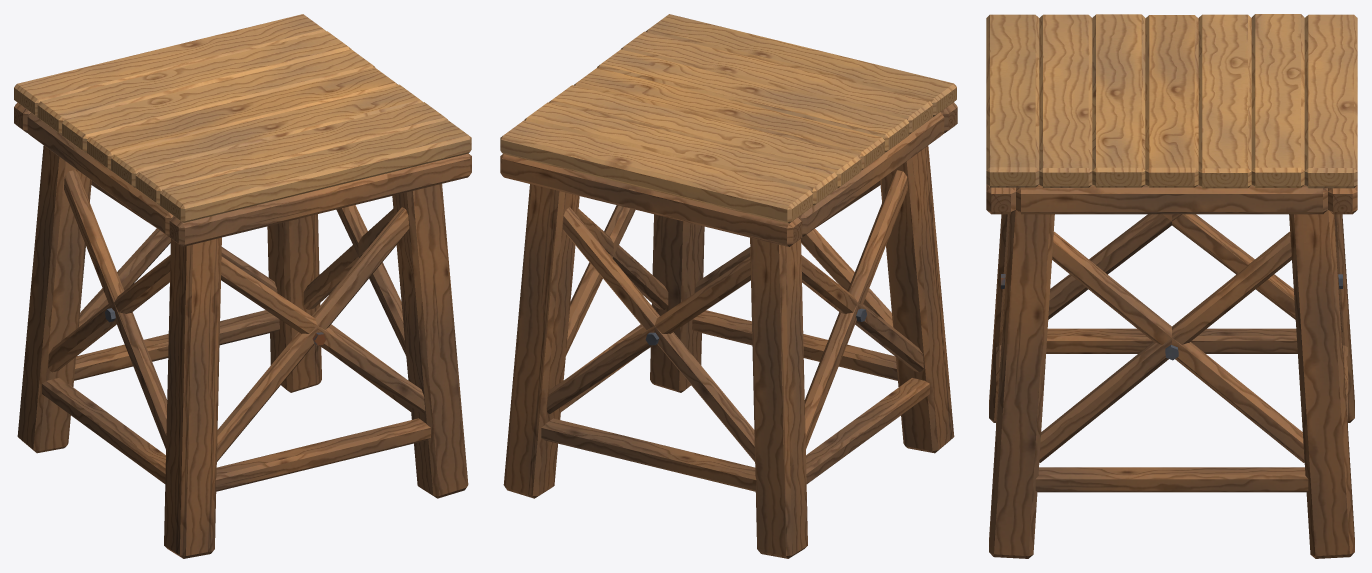
The model's file is kule_tabani.glb.
The picture shows the model from 3 angles, left to right: view 1: azimuth 30°, elevation 25°; view 2: azimuth 150°, elevation 25°; view 3: azimuth 270°, elevation 25°; orthographic projection. The views are drawn at different scales.
Visible parts, largest first — view 1: kule_tabani; view 2: kule_tabani; view 3: kule_tabani.
Part boxes in pixels (left/top/right/bottom): kule_tabani: left=14, top=14, right=471, bottom=558; kule_tabani: left=500, top=14, right=957, bottom=558; kule_tabani: left=986, top=14, right=1357, bottom=558.
Size of the model in its own units: 3 by 3.51 by 3.
1 material, 1 textured.
